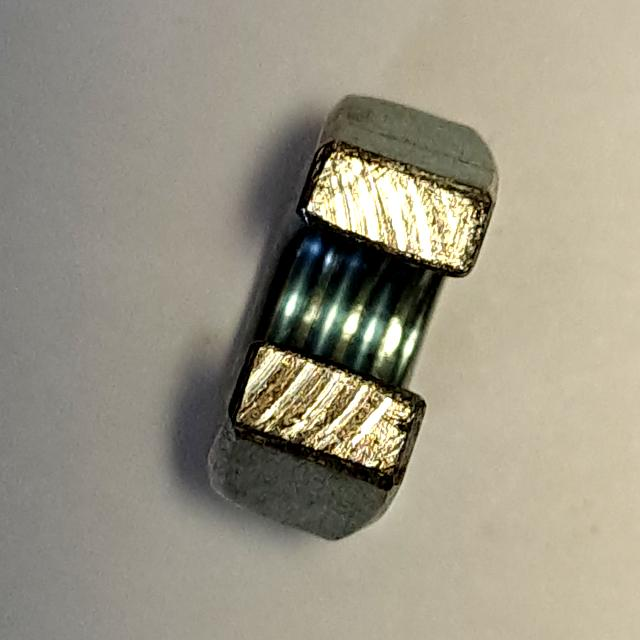Side-Fracture: (186, 81, 518, 561)
